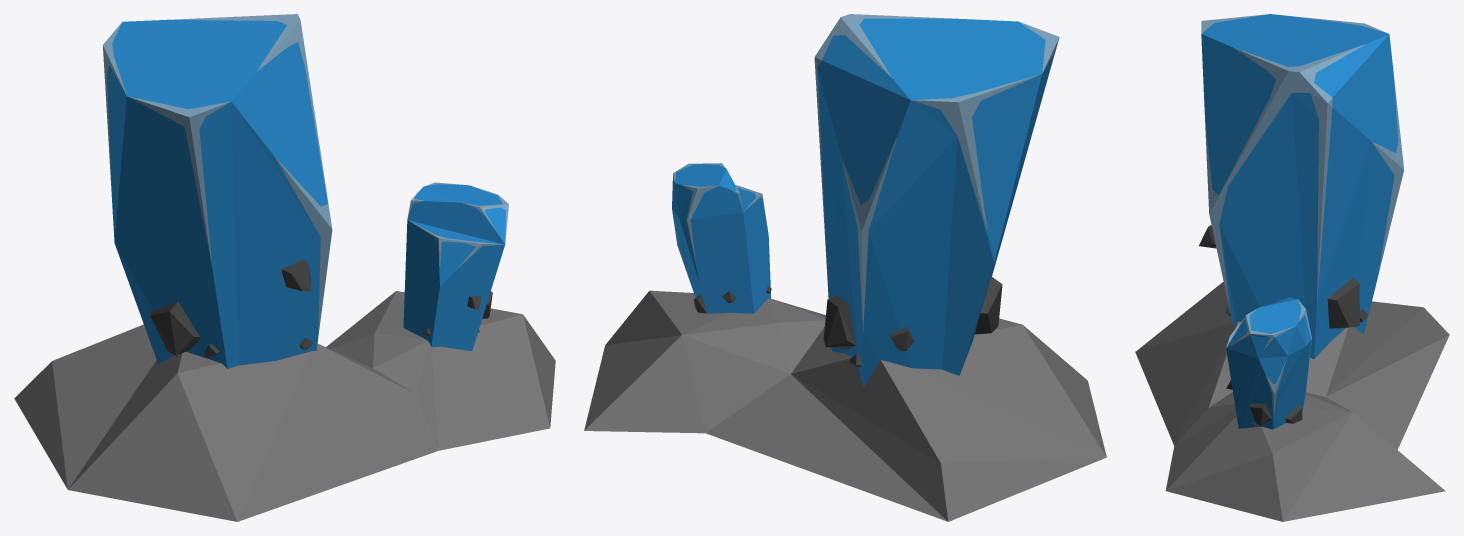
File: Stone_Blue_A_05.FBX
3 renders of one model, left to right at view 1: azimuth 30°, elevation 25°; view 2: azimuth 150°, elevation 25°; view 3: azimuth 270°, elevation 25°, orthographic. The views are drawn at different scales.
Visible parts, largest first — view 1: Stone_Blue_A_05; view 2: Stone_Blue_A_05; view 3: Stone_Blue_A_05.
Part boxes in pixels (x1,y1,x2,y2): Stone_Blue_A_05: (14,14,555,521); Stone_Blue_A_05: (584,14,1106,521); Stone_Blue_A_05: (1135,14,1449,521).
Size of the model in its own units: 1.98 by 1.55 by 1.26.
